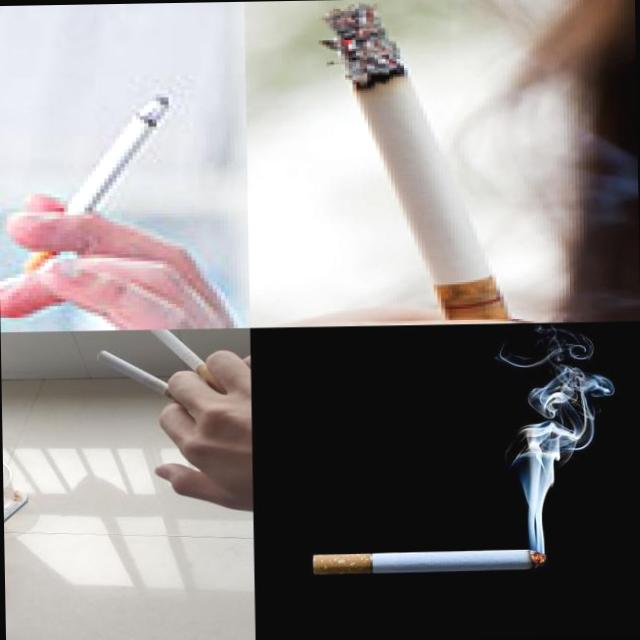cigarette: (327, 3, 511, 322), (17, 94, 174, 276), (96, 348, 194, 412), (312, 550, 546, 574), (150, 328, 226, 395)
